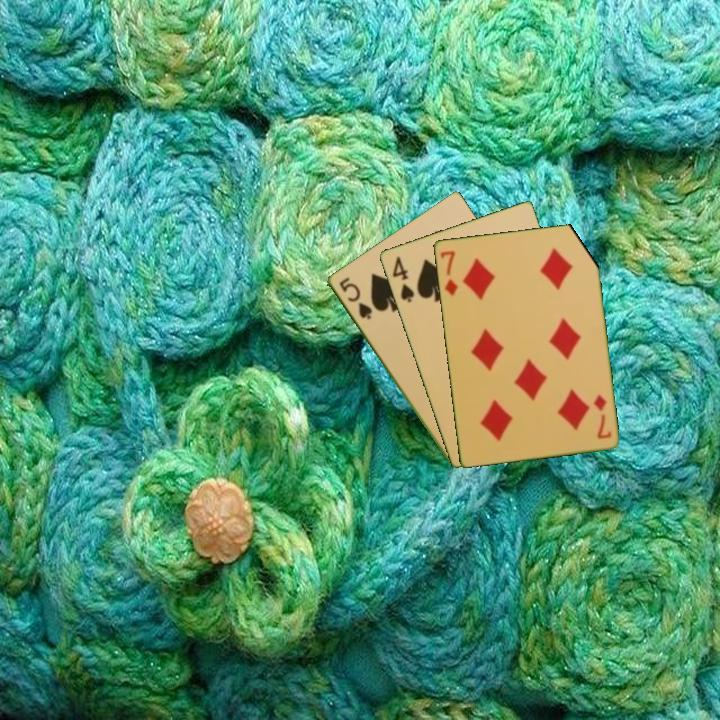4s: (388, 252, 417, 305)
5s: (335, 273, 375, 323)
7d: (589, 391, 614, 442), (437, 247, 460, 298)
